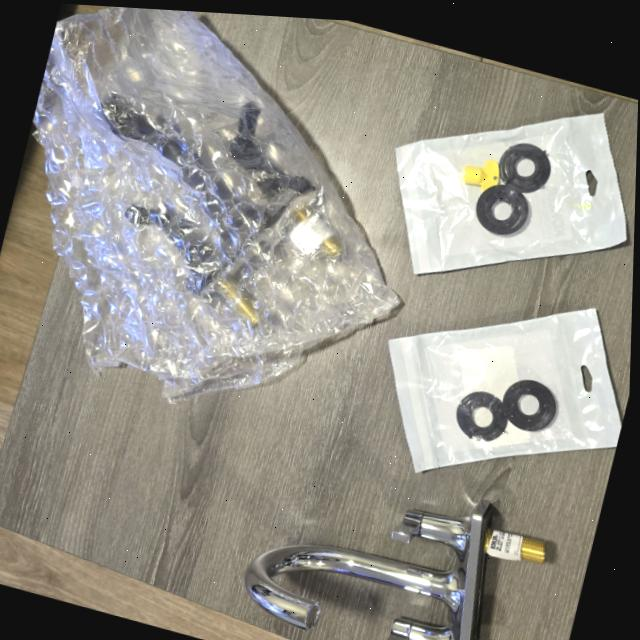10: (245, 503, 545, 640)
12: (396, 112, 626, 272)
13: (389, 308, 621, 471)
9c: (33, 7, 397, 400)
